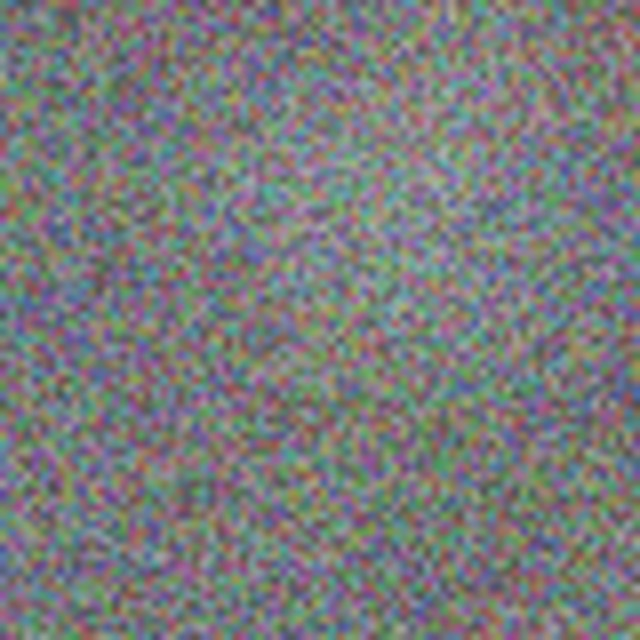smoke: (269, 54, 501, 286)
